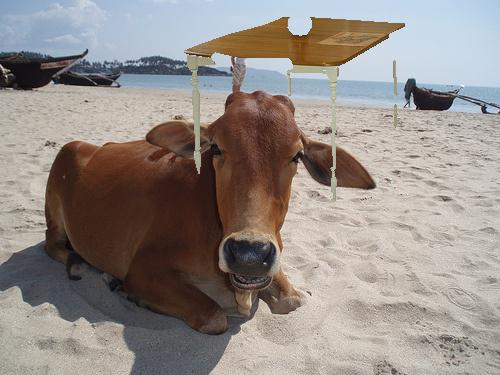tampered: (183, 18, 405, 201)
